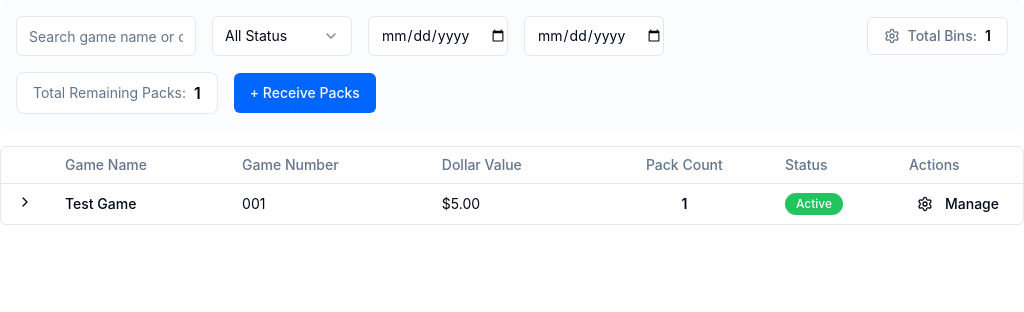
Test: LotteryTable: Return Button Feature (SEC-010: AUTHZ) › RETURN-BTN-002: [P0] should disable Return button when backend can_return=false
// Expand the game row (ACTIVE packs show in default view)
Click the row with test id "lottery-table-row-game-1" at x=101, y=203, box [1,183,1023,224]
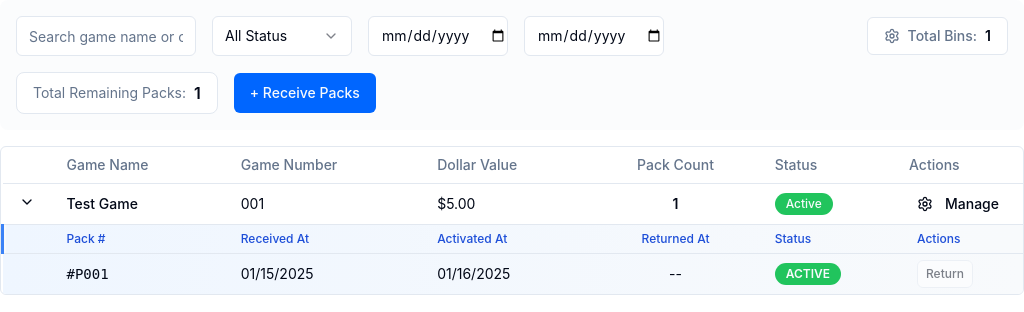
Expected: the button with test id "return-pack-btn-pack-not-returnable" is disabled, [917,260,973,288]
